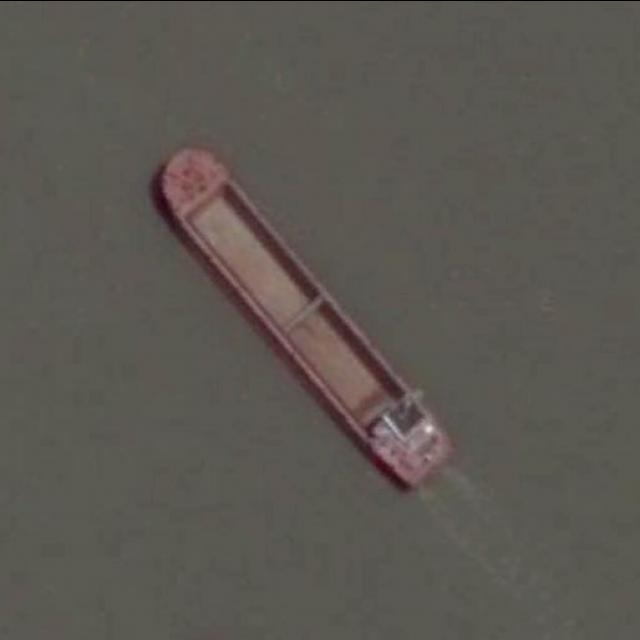ship: (153, 141, 452, 486)
